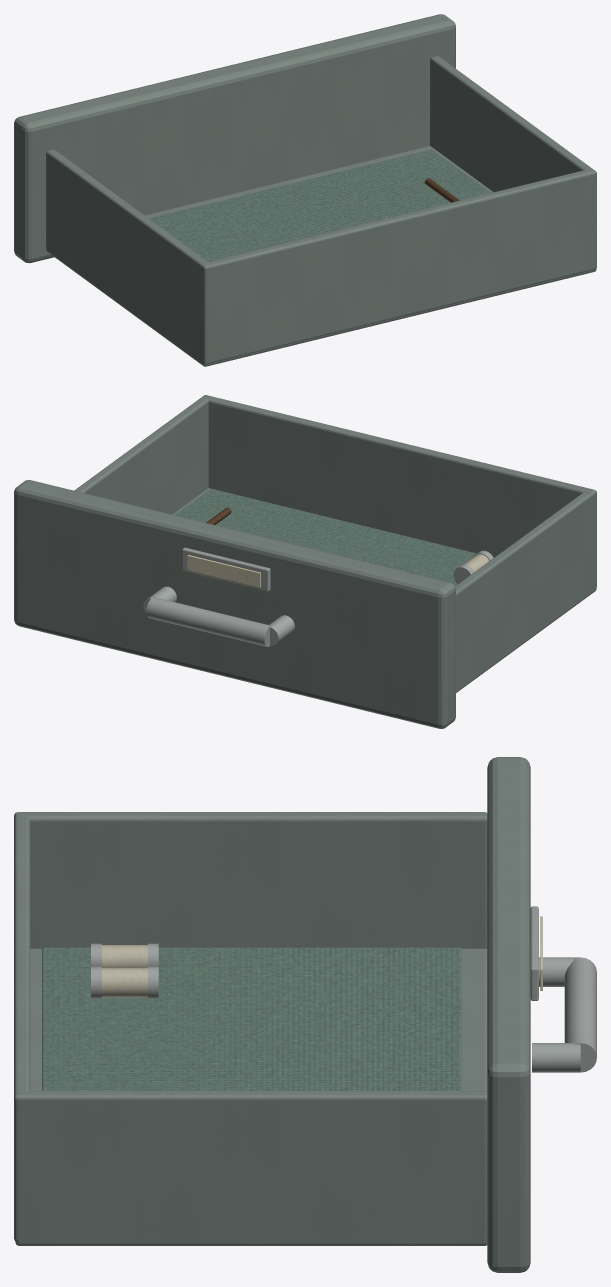
Rendered from SM_Office_ServiceDrawer.fbx.
3 renders of one model, top to bottom at view 1: azimuth 30°, elevation 25°; view 2: azimuth 150°, elevation 25°; view 3: azimuth 270°, elevation 25°, orthographic. The views are drawn at different scales.
Parts seen in each view (by area): view 1: SM_Office_ServiceDrawer; view 2: SM_Office_ServiceDrawer; view 3: SM_Office_ServiceDrawer.
Part boxes in pixels (bbox=[...]): SM_Office_ServiceDrawer: bbox=[14, 14, 596, 366]; SM_Office_ServiceDrawer: bbox=[14, 395, 596, 728]; SM_Office_ServiceDrawer: bbox=[14, 757, 596, 1272].
Size of the model in its own units: 0.55 by 0.431 by 0.17.
